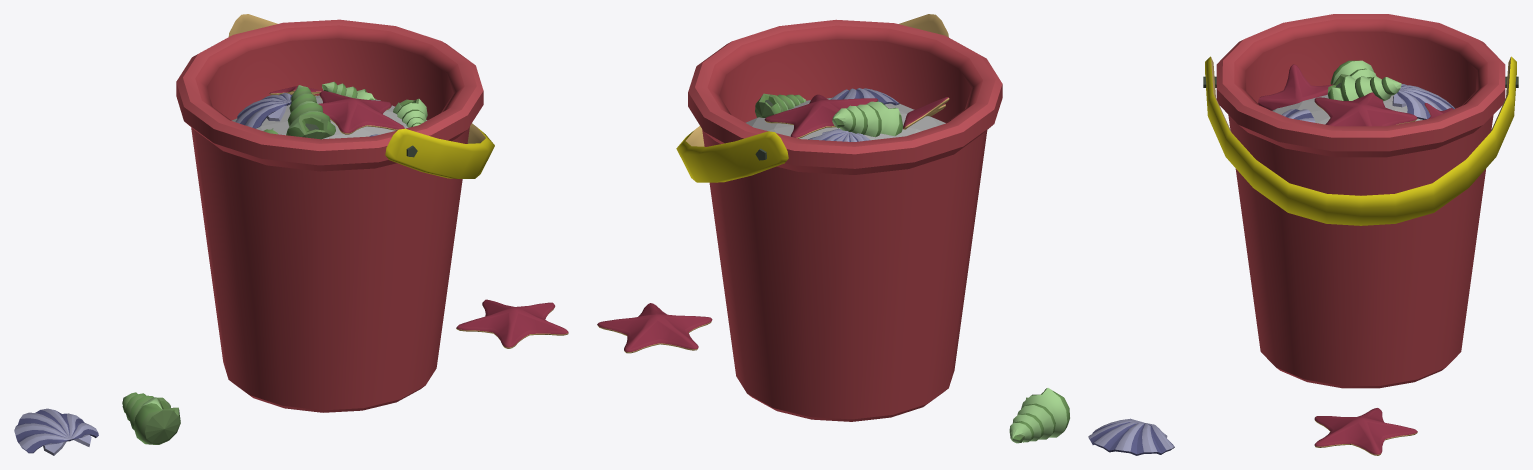
Rendered from BeachTreasuresFBX.fbx.
3 views of the same model, side by side, from view 1: azimuth 30°, elevation 25°; view 2: azimuth 150°, elevation 25°; view 3: azimuth 270°, elevation 25° (orthographic). The views are drawn at different scales.
Visible parts, largest first — view 1: treasureBucket, starfish, shell1, shell2; view 2: treasureBucket, starfish, shell2, shell1; view 3: treasureBucket, starfish.
Boxes of the visible parts, x1,y1,x2,y2 form: treasureBucket: (176, 14, 494, 412); starfish: (456, 299, 568, 348); shell1: (14, 408, 98, 455); shell2: (122, 392, 180, 444); treasureBucket: (676, 14, 1002, 421); starfish: (597, 303, 712, 353); shell2: (1009, 388, 1069, 443); shell1: (1088, 418, 1174, 455); treasureBucket: (1203, 14, 1518, 388); starfish: (1314, 408, 1417, 455).
Size of the model in its own units: 47.51 by 26.69 by 24.8.
